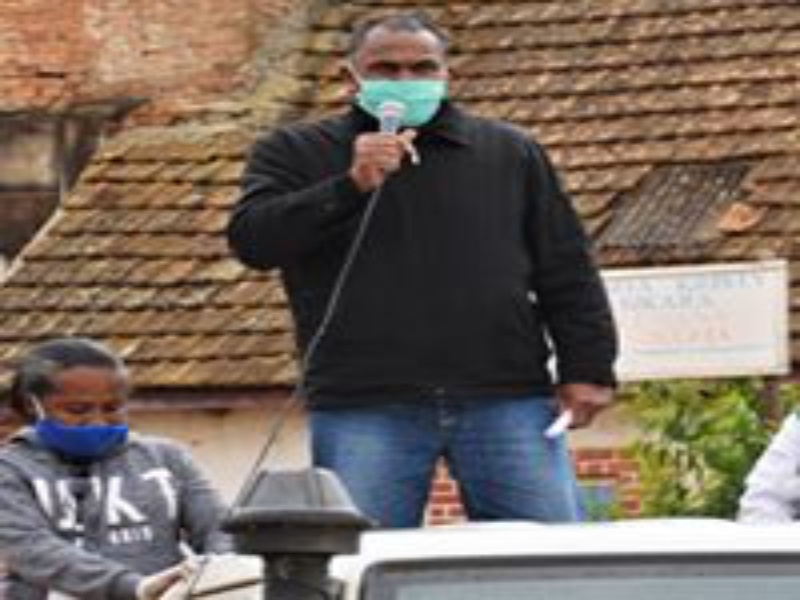ManaoArotava: (18, 333, 150, 469), (339, 10, 462, 139)
